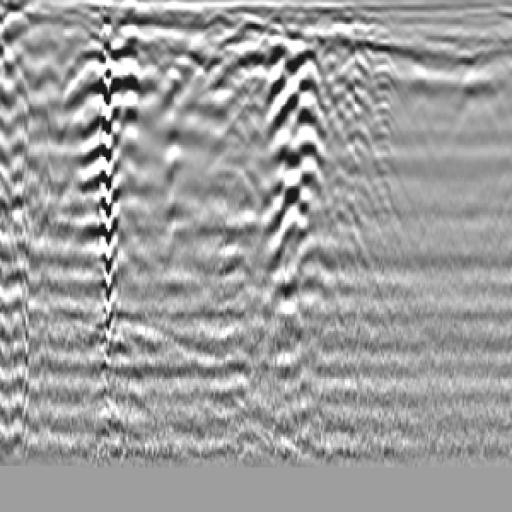metalic: (170, 30, 264, 265)
